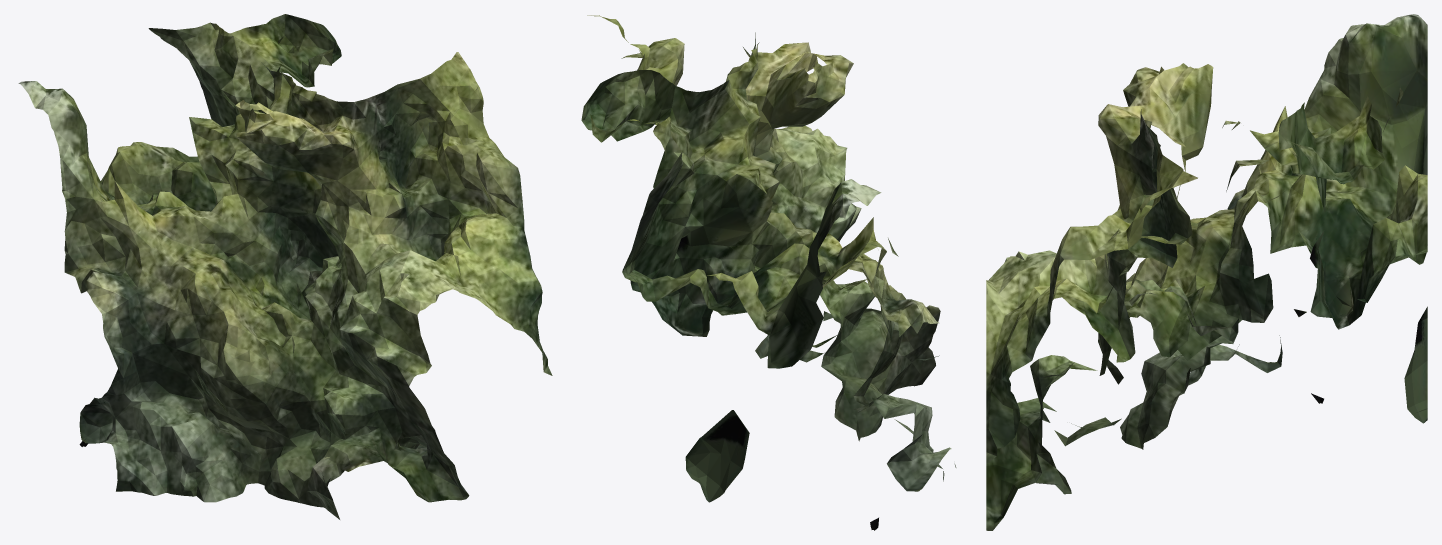
3 views of the same model, side by side, from view 1: azimuth 30°, elevation 25°; view 2: azimuth 150°, elevation 25°; view 3: azimuth 270°, elevation 25° (orthographic). The views are drawn at different scales.
Bounding box in the file's own units: 11.8 × 11.8 × 11.8.
Materials: 6 (6 with a texture image).
